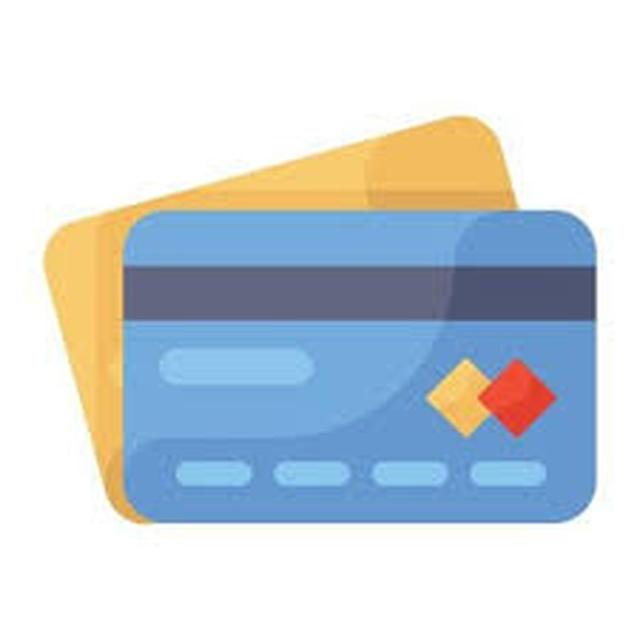card: (48, 114, 512, 530), (127, 214, 590, 516)
